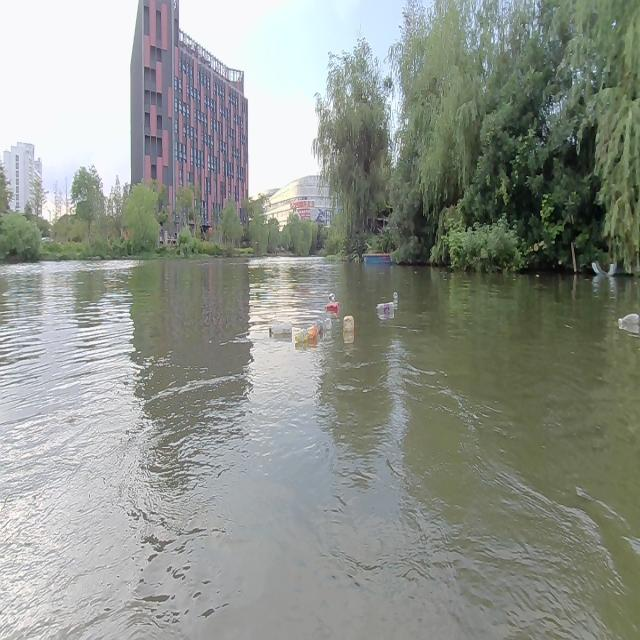bottle: (295, 321, 319, 345), (266, 319, 290, 340), (375, 297, 395, 318), (342, 313, 354, 335), (324, 302, 339, 316), (390, 288, 400, 304), (324, 314, 332, 331), (328, 289, 338, 299)
